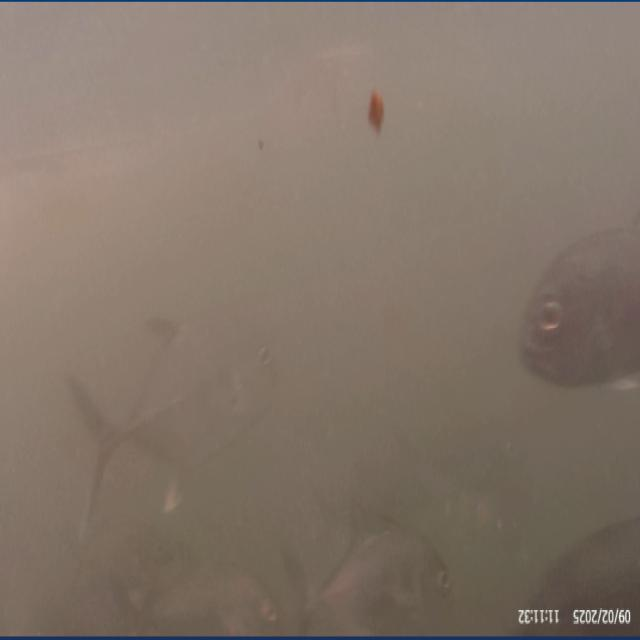ikan: (66, 307, 275, 545), (520, 222, 639, 390), (301, 509, 451, 633)
